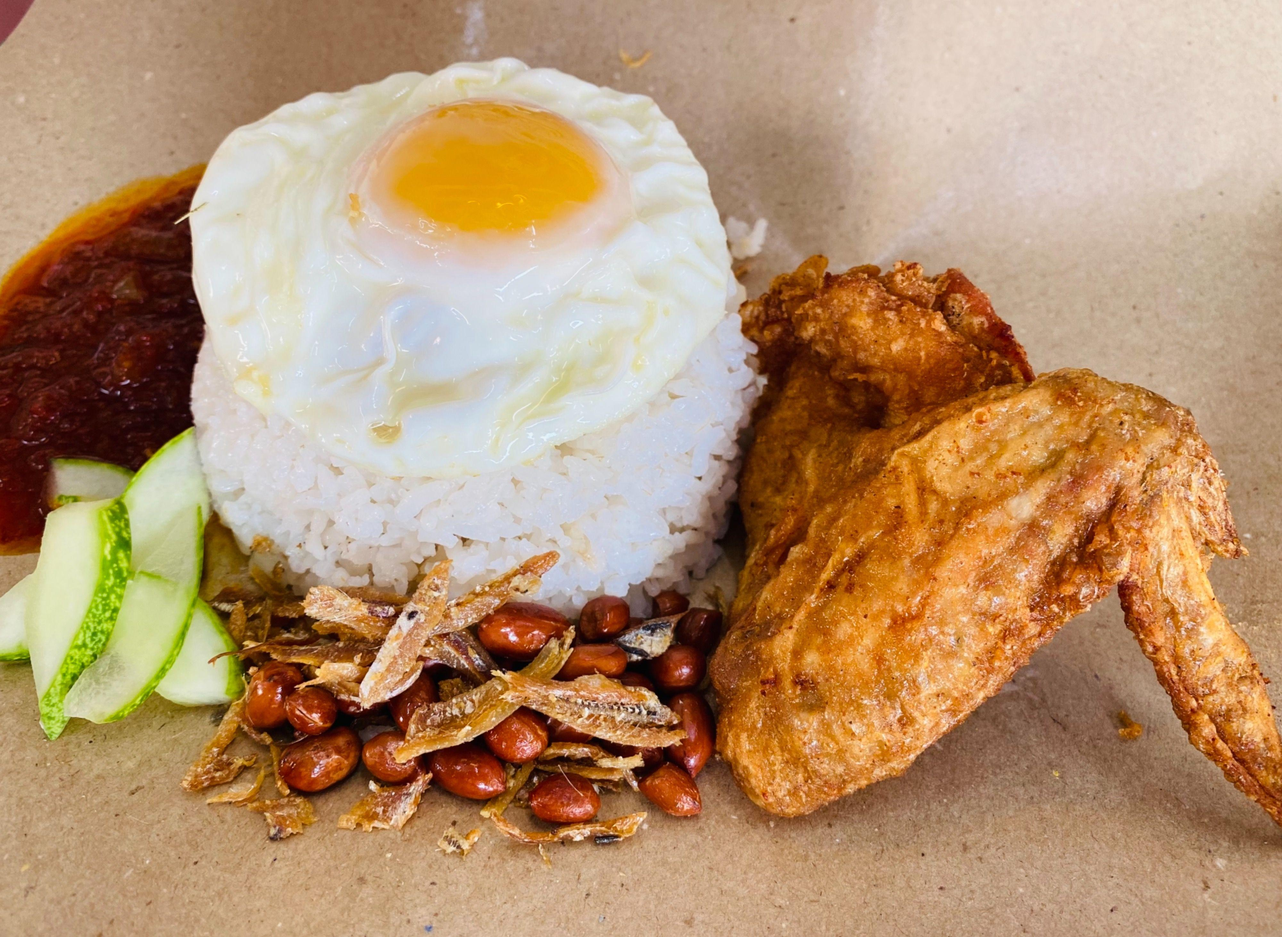Anchovies: (221, 553, 686, 763), (335, 763, 646, 856), (183, 697, 316, 841)
Cucumber: (0, 430, 245, 741)
Fried-Chicken: (708, 260, 1282, 833)
Fried-Egg: (187, 58, 744, 481)
Peanuts: (240, 591, 722, 818), (478, 603, 571, 664), (529, 773, 601, 824)
Rice: (190, 316, 763, 609)
Sambal: (0, 174, 196, 547)
